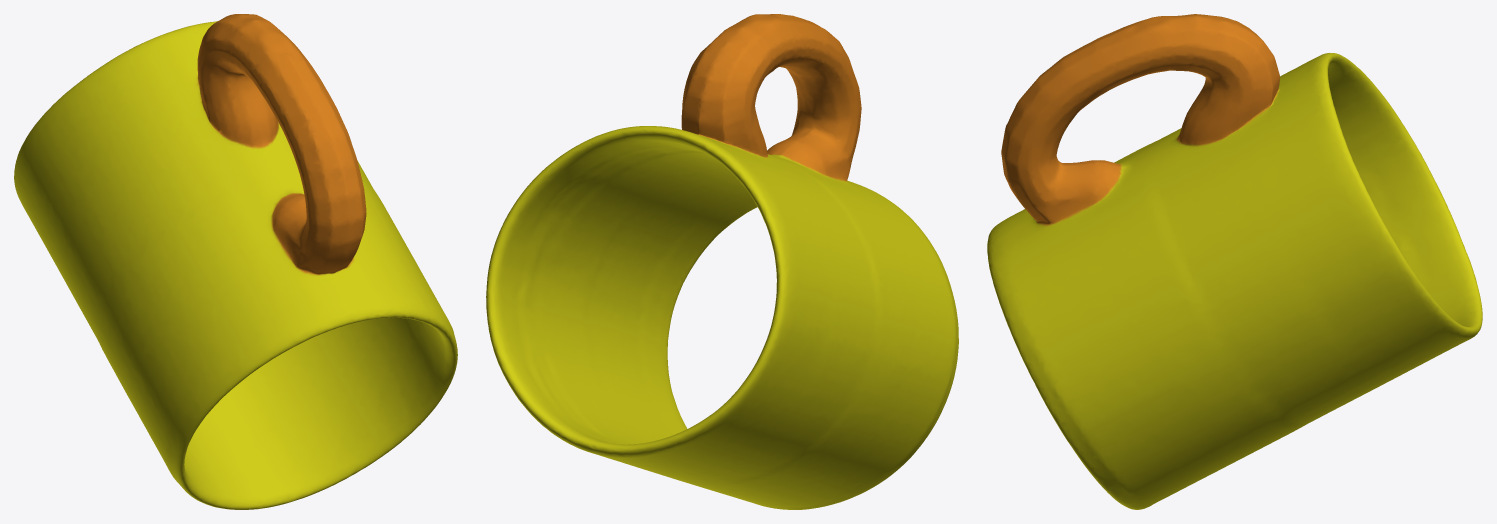
The model's file is mug.glb.
3 renders of one model, left to right at view 1: azimuth 30°, elevation 25°; view 2: azimuth 150°, elevation 25°; view 3: azimuth 270°, elevation 25°, orthographic. The views are drawn at different scales.
Parts seen in each view (by area): view 1: world; view 2: world; view 3: world.
Boxes of the visible parts, box(x1,y1,x2,y2) form: world: box(14, 14, 457, 509); world: box(486, 14, 958, 509); world: box(987, 14, 1482, 509).
Size of the model in its own units: 0.6261 by 1 by 0.9425.
1 material, 1 textured.
